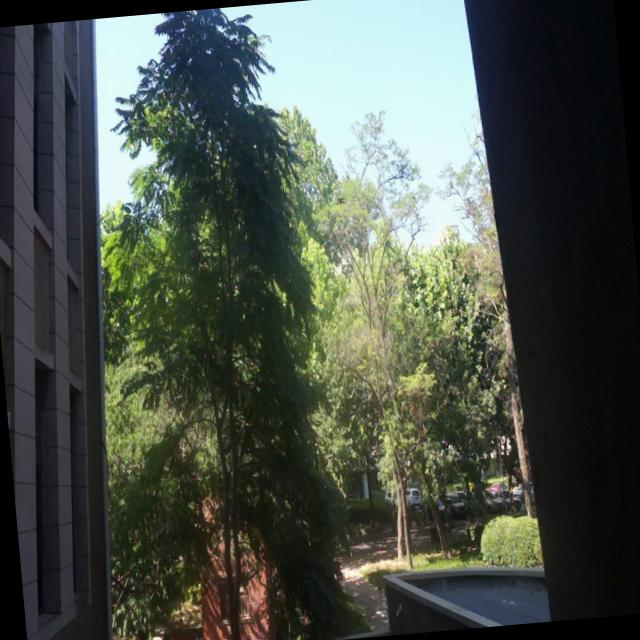drone: (332, 188, 349, 210)
